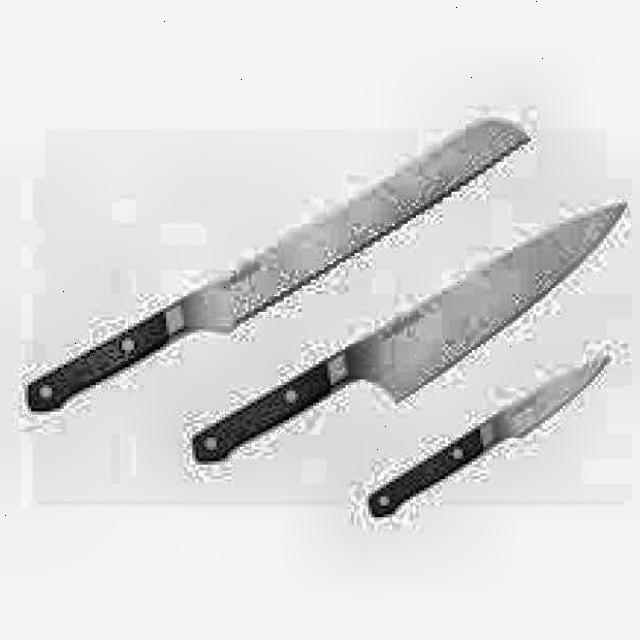knife: (19, 115, 529, 423), (188, 197, 634, 468), (362, 338, 620, 524)
